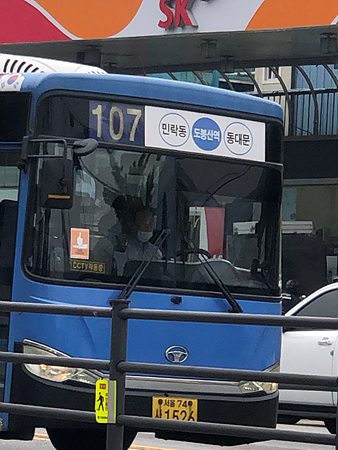bnum: (87, 101, 145, 141)
